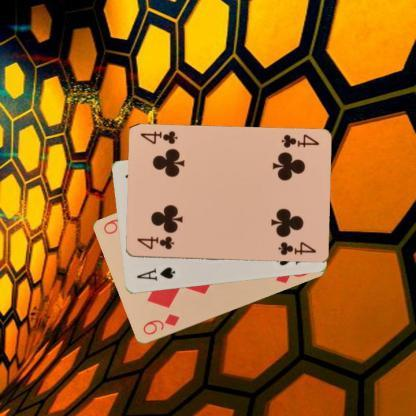4c: (278, 132, 321, 150), (134, 234, 175, 251)
9d: (140, 311, 181, 337)
As: (134, 264, 176, 283)
